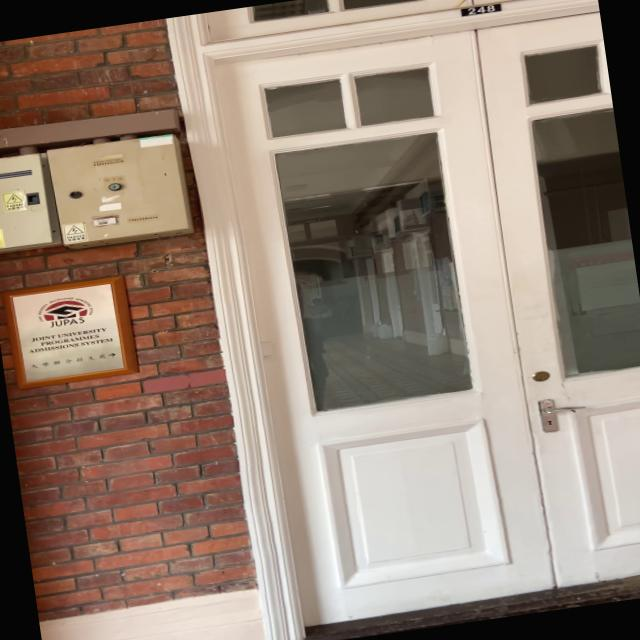room248: (449, 0, 512, 23)
